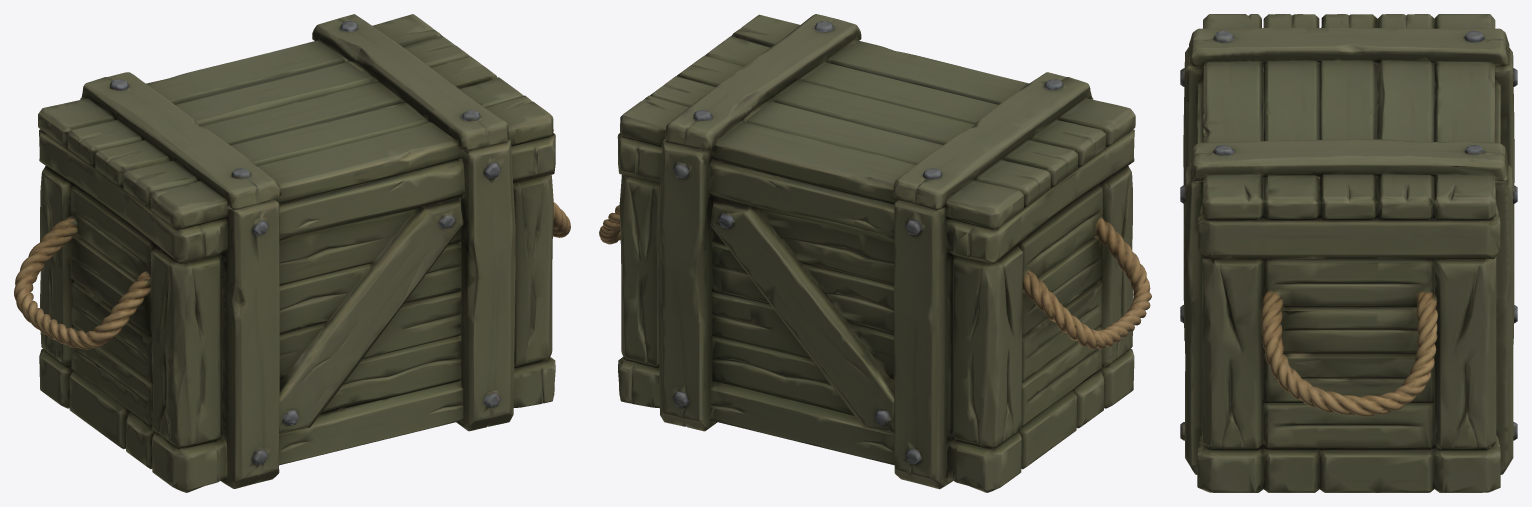
Rendered from crate_supply.glb.
The picture shows the model from 3 angles, left to right: view 1: azimuth 30°, elevation 25°; view 2: azimuth 150°, elevation 25°; view 3: azimuth 270°, elevation 25°; orthographic projection. The views are drawn at different scales.
Parts seen in each view (by area): view 1: node_0; view 2: node_0; view 3: node_0.
Part boxes in pixels (x1=…): node_0: x1=14, y1=14, x2=570, y2=492; node_0: x1=599, y1=14, x2=1151, y2=492; node_0: x1=1180, y1=14, x2=1517, y2=492.
Size of the model in its own units: 1.17 by 0.6797 by 0.652.
Materials: 1 (1 with a texture image).
